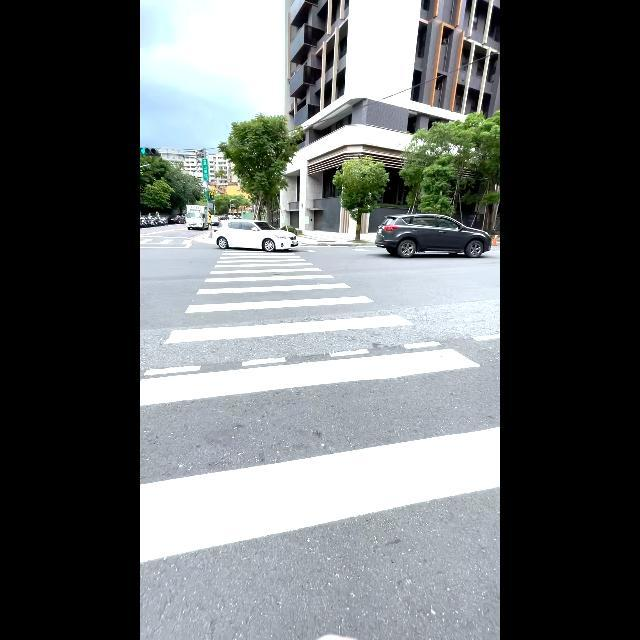sidewalk: (141, 247, 500, 563)
